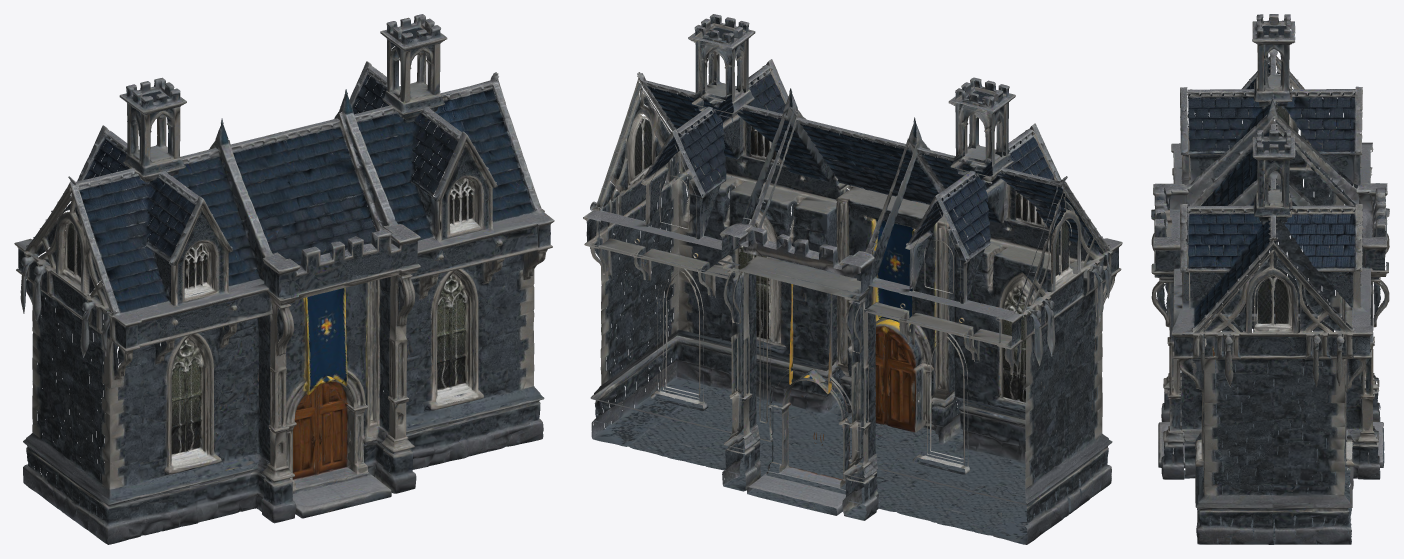
Rendered from gothic_bay.glb.
3 renders of one model, left to right at view 1: azimuth 30°, elevation 25°; view 2: azimuth 150°, elevation 25°; view 3: azimuth 270°, elevation 25°, orthographic. The views are drawn at different scales.
Bounding box in the file's own units: 1.9 × 1.63 × 0.956.
Materials: 1 (1 with a texture image).
